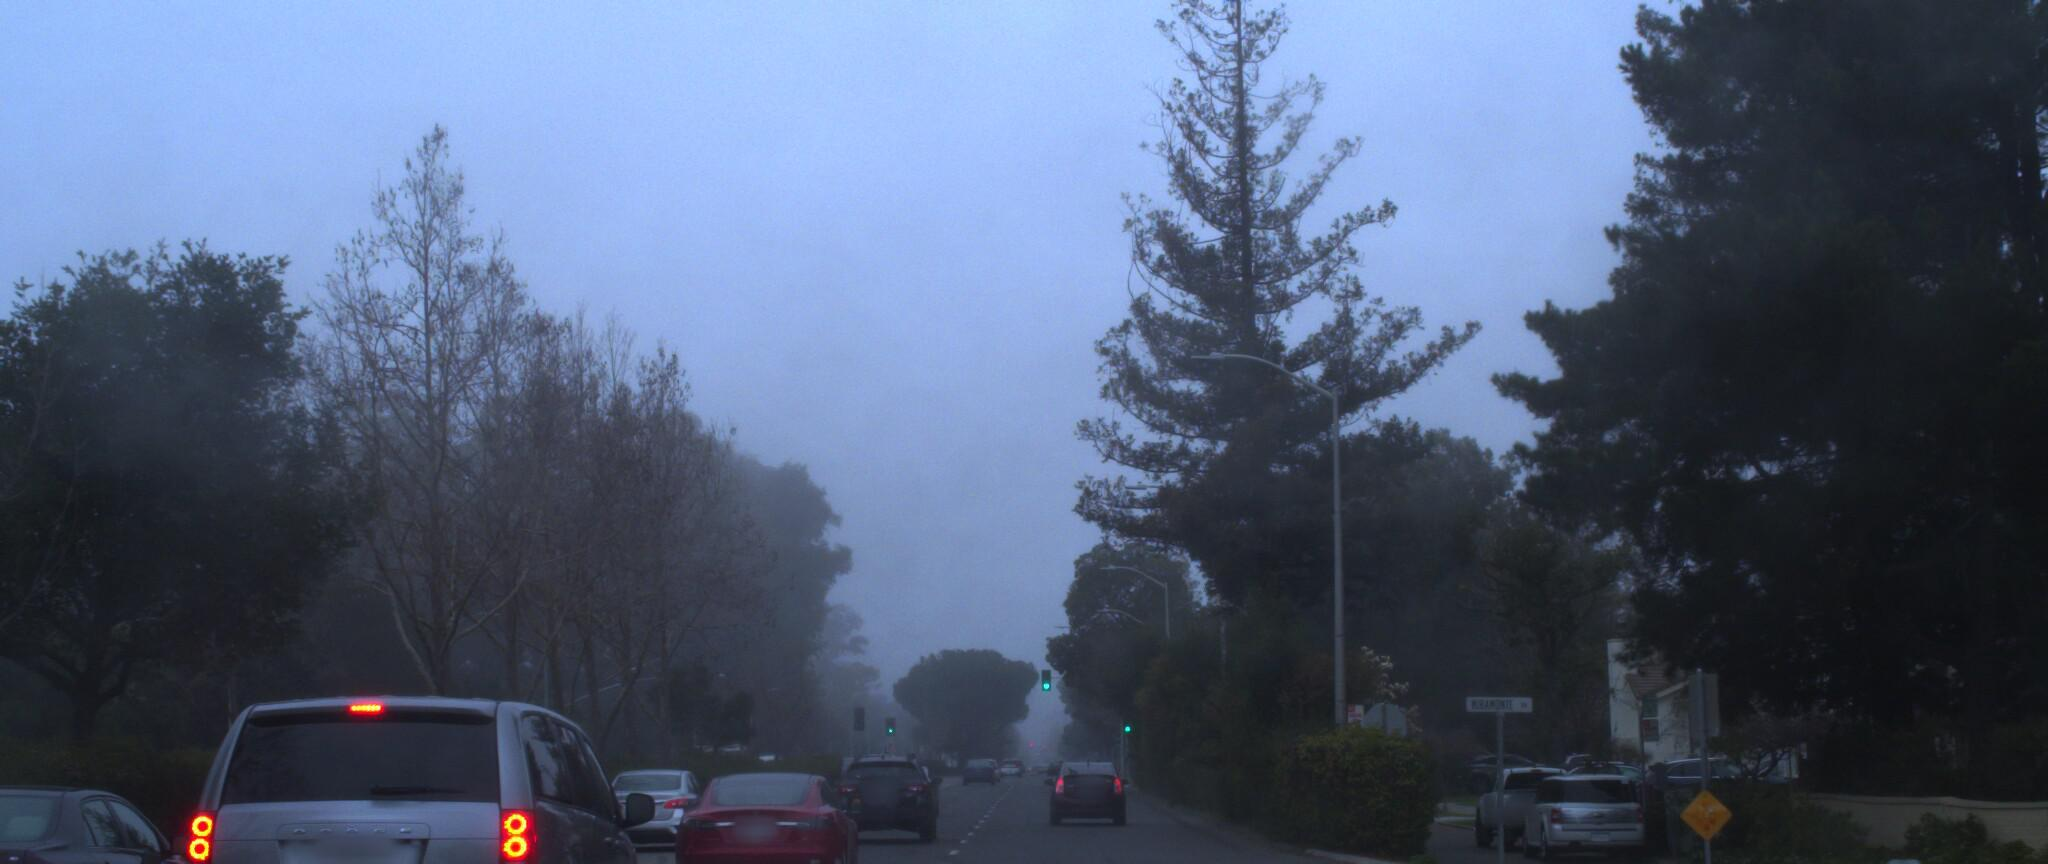car: (135, 662, 677, 864), (0, 756, 238, 864), (667, 745, 869, 864), (1494, 747, 1644, 846), (1459, 744, 1600, 833), (600, 747, 722, 837), (828, 731, 936, 826), (1058, 724, 1145, 807)
